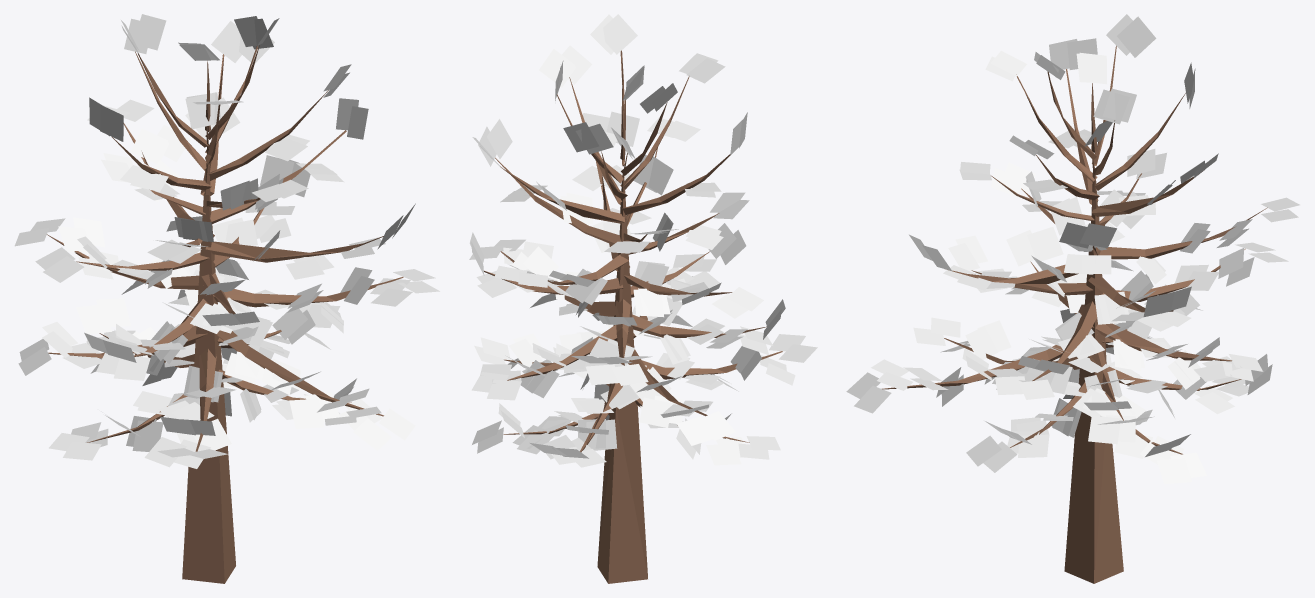
File: lowPolyTiles_Tree01.fbx
3 views of the same model, side by side, from view 1: azimuth 30°, elevation 25°; view 2: azimuth 150°, elevation 25°; view 3: azimuth 270°, elevation 25° (orthographic). The views are drawn at different scales.
Parts seen in each view (by area): view 1: tree.001; view 2: tree.001; view 3: tree.001.
Boxes of the visible parts, x1=… form: tree.001: x1=14, y1=14, x2=439, y2=583; tree.001: x1=469, y1=14, x2=817, y2=583; tree.001: x1=846, y1=14, x2=1299, y2=583.
Bounding box in the file's own units: 219 × 338 × 260.
